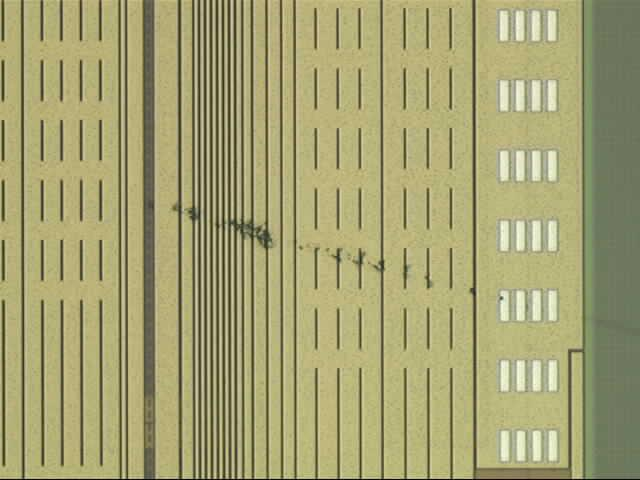SCRATCH: (122, 185, 640, 344)
